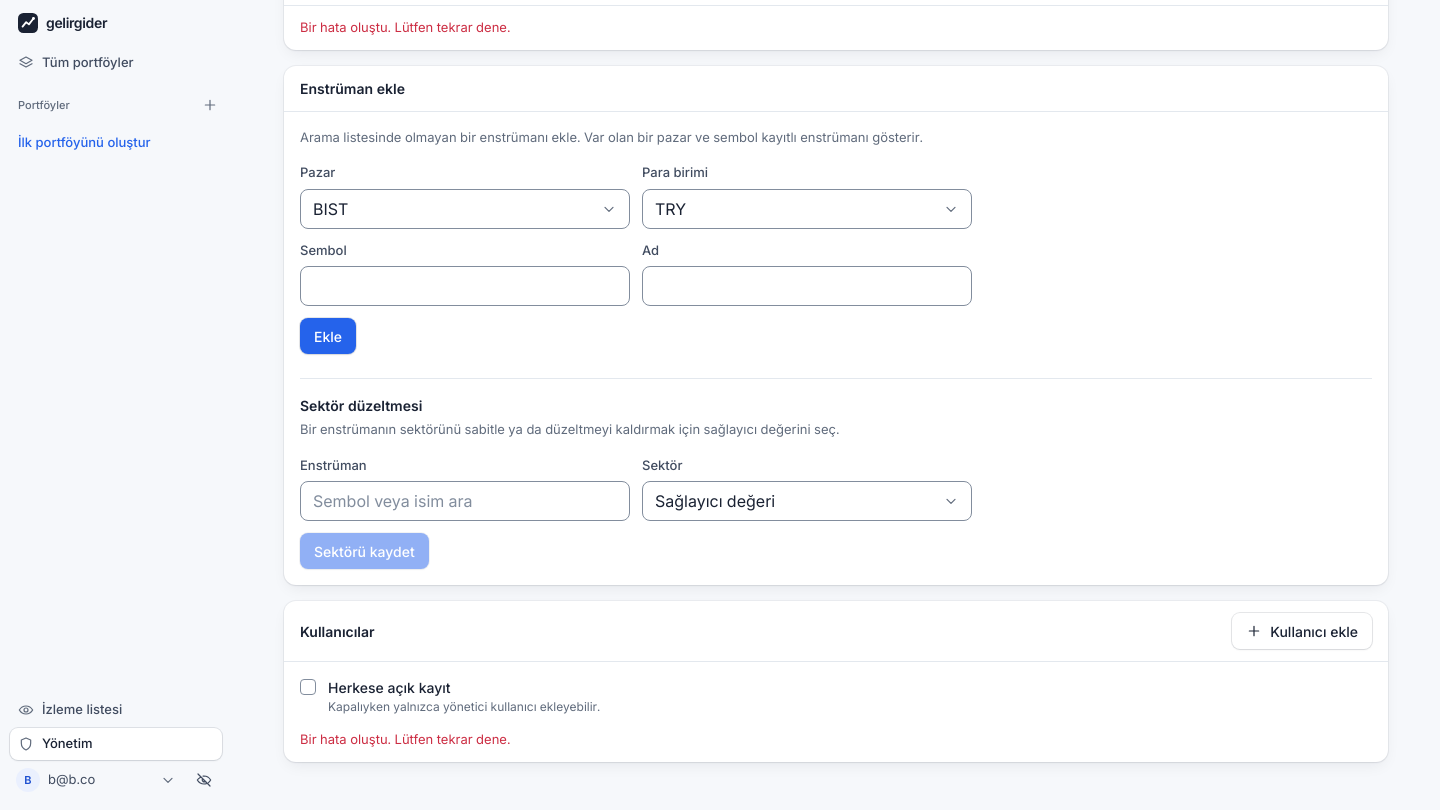
Test: App › says the user is no longer an admin and drops the admin page on a 403
(page scrolled)
Expected: the link "Yönetim" is shown, [10, 728, 222, 760]
Click the checkbox named "Herkese açık kayıt" at (308, 686), box [300, 678, 316, 694]
(page scrolled)
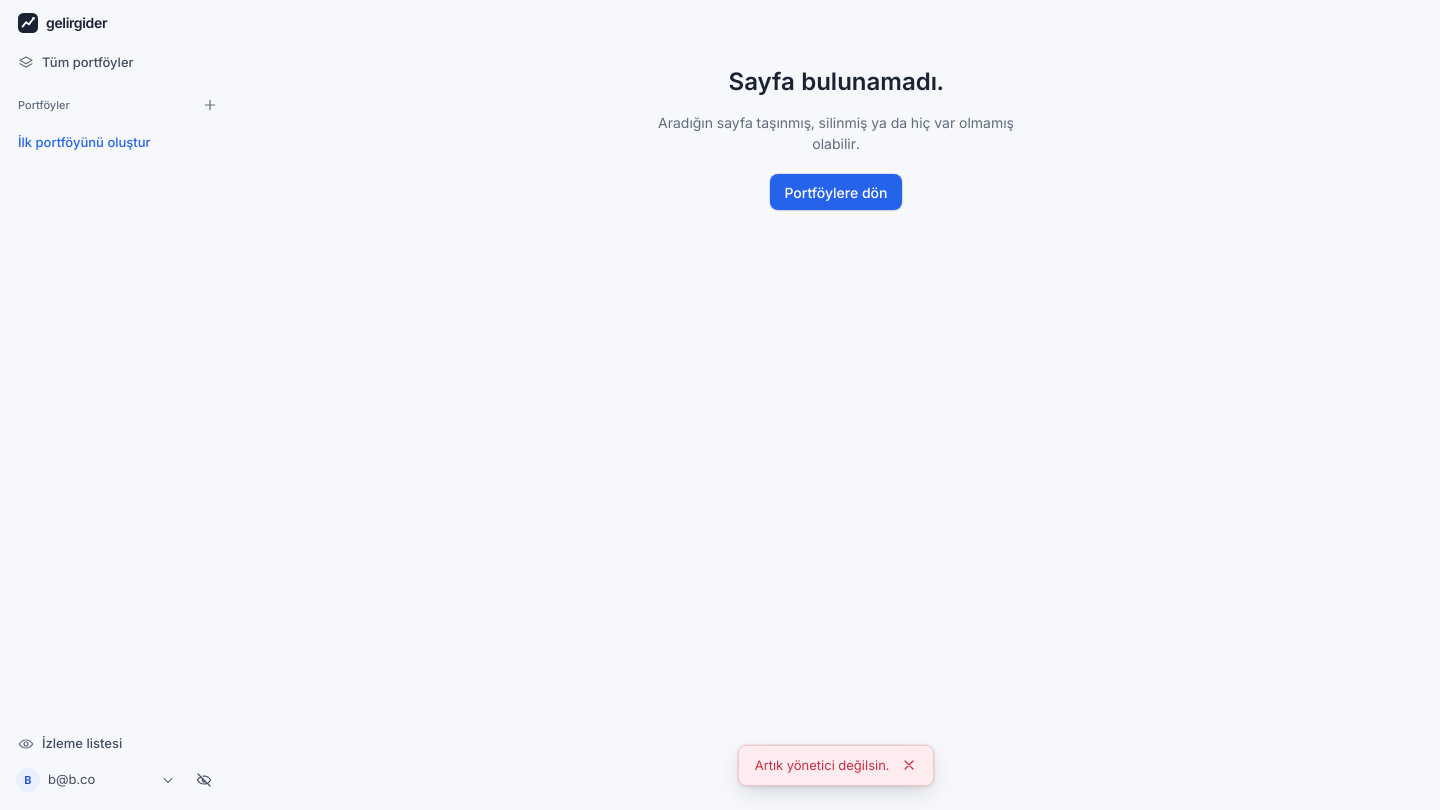
Expected: the link "Yönetim" is gone
Expected: the text "Herkese açık kayıt" is gone
Expected: the text "Artık yönetici değilsin." is shown, [755, 756, 889, 775]
